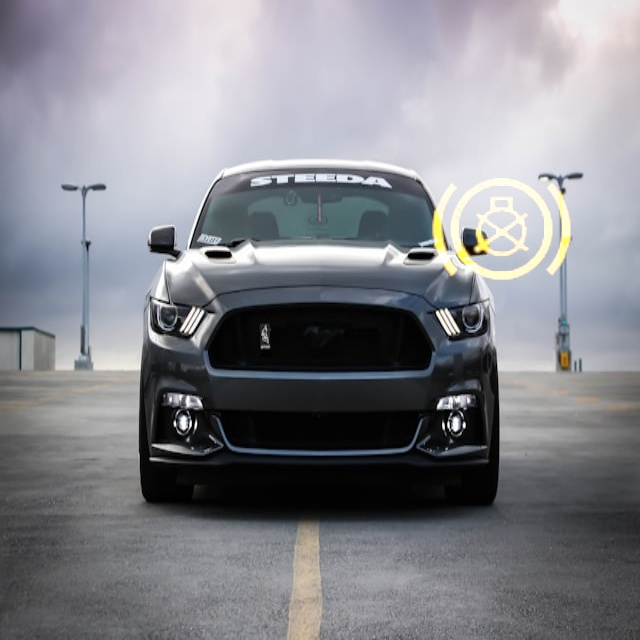symbol: (402, 131, 601, 330)
